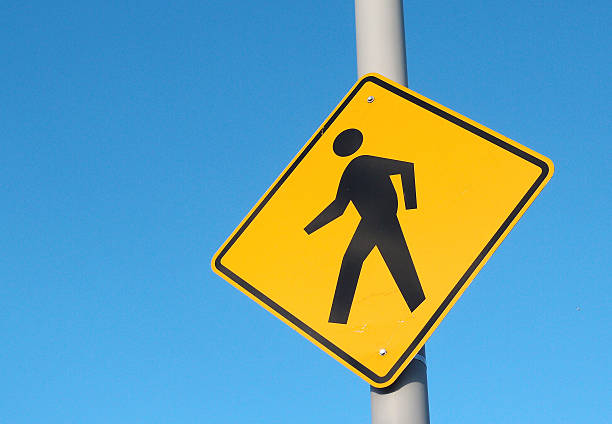pedestrian: (243, 83, 500, 339)
